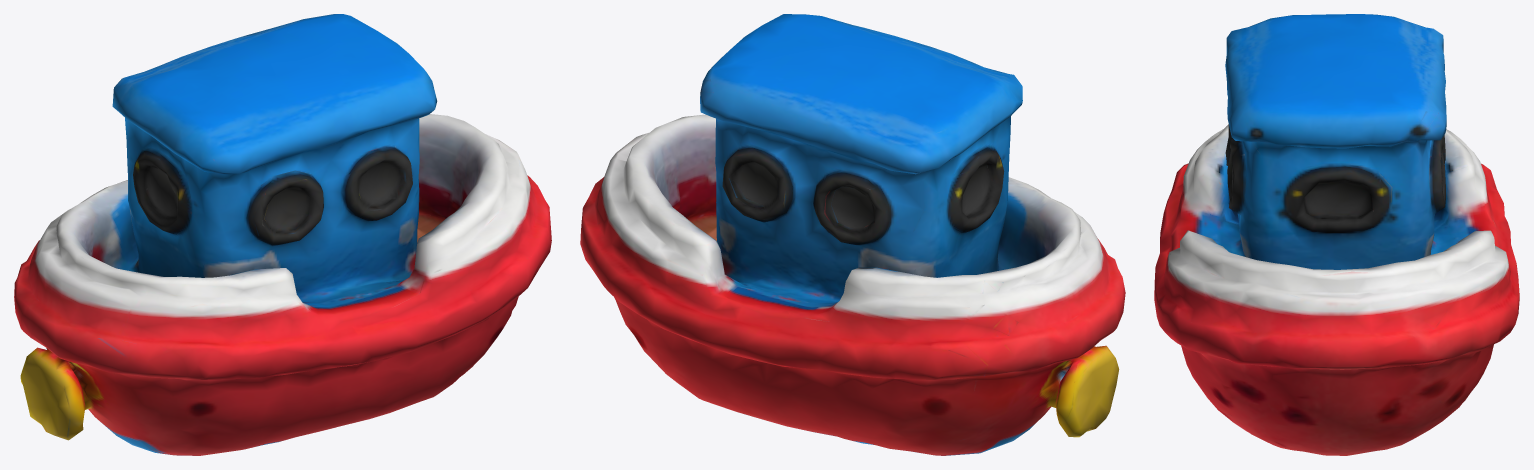
Rendered from boat-model-1.glb.
3 renders of one model, left to right at view 1: azimuth 30°, elevation 25°; view 2: azimuth 150°, elevation 25°; view 3: azimuth 270°, elevation 25°, orthographic.
Visible parts, largest first — view 1: Mesh1.0; view 2: Mesh1.0; view 3: Mesh1.0.
Part boxes in pixels (x1,y1,x2,y2): Mesh1.0: (14, 14, 551, 455); Mesh1.0: (580, 14, 1125, 455); Mesh1.0: (1154, 14, 1519, 455).
Size of the model in its own units: 1.53 by 1.01 by 0.9942.
Materials: 1 (1 with a texture image).
